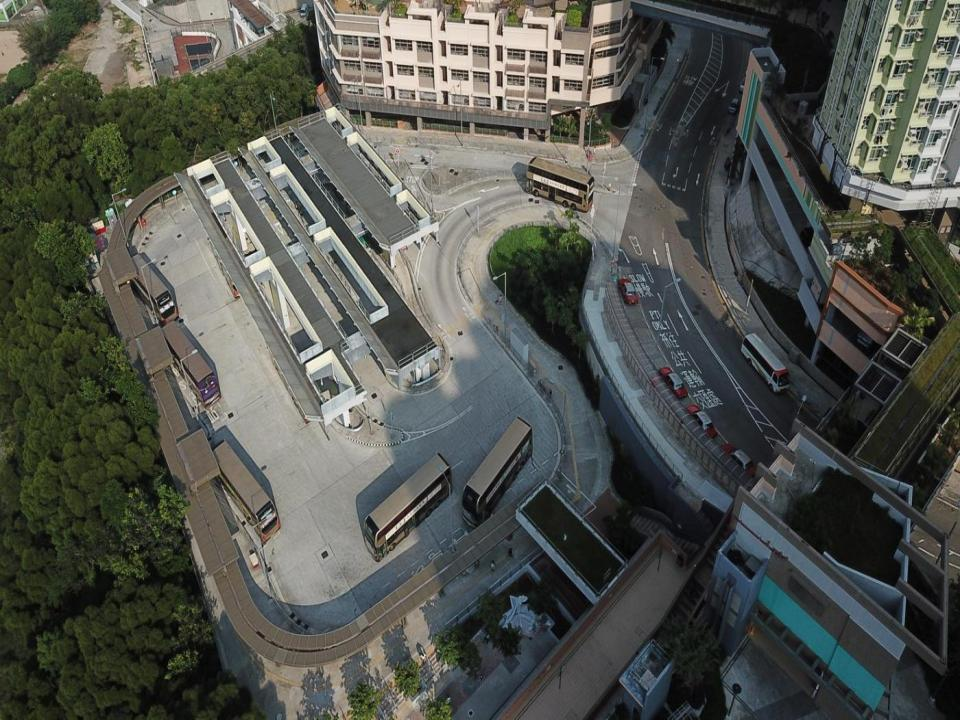bus: (363, 451, 453, 562), (462, 415, 534, 529), (209, 438, 281, 544), (158, 320, 221, 408), (524, 156, 594, 213), (127, 253, 179, 327), (740, 332, 791, 396), (209, 230, 254, 299)
car: (720, 442, 758, 483), (684, 404, 718, 441), (657, 366, 688, 400), (617, 278, 639, 305), (727, 96, 740, 115), (738, 76, 750, 93)
